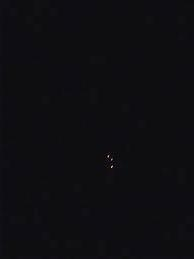Plane: (100, 144, 120, 176)
